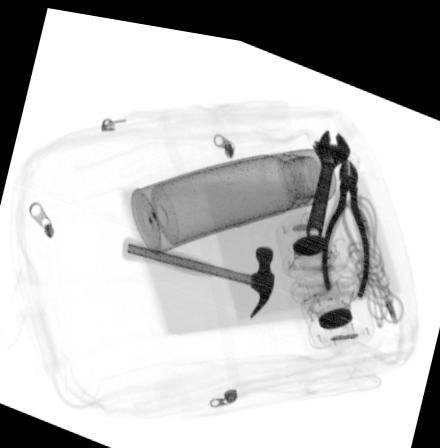Hammer: (121, 227, 272, 305)
Pliers: (320, 145, 371, 288)
Wrench: (306, 115, 350, 233)
